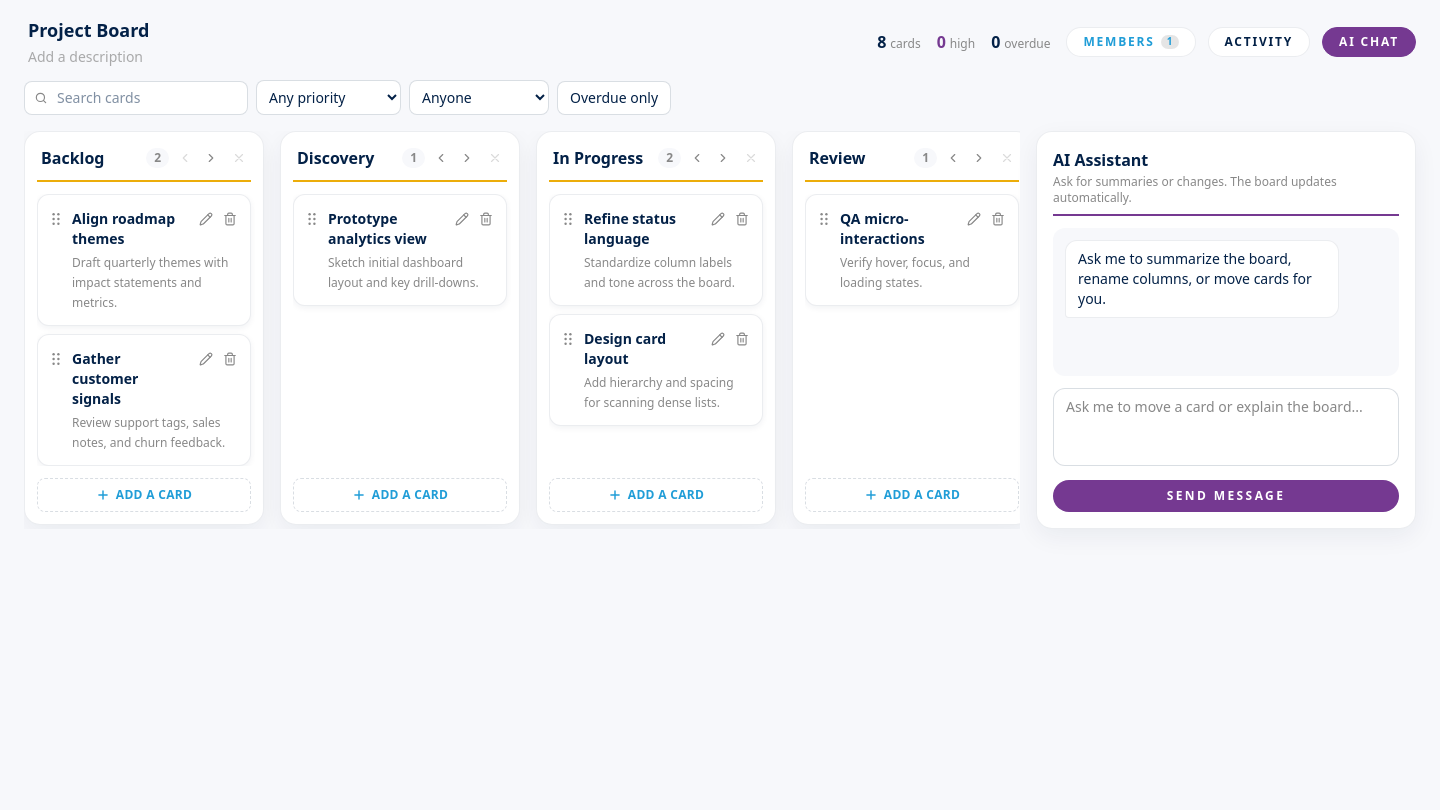
Test: KanbanBoard › edits every card field and saves them
Click the button named "edit align roadmap themes". click: (206, 219)
box: [194,207,218,231]
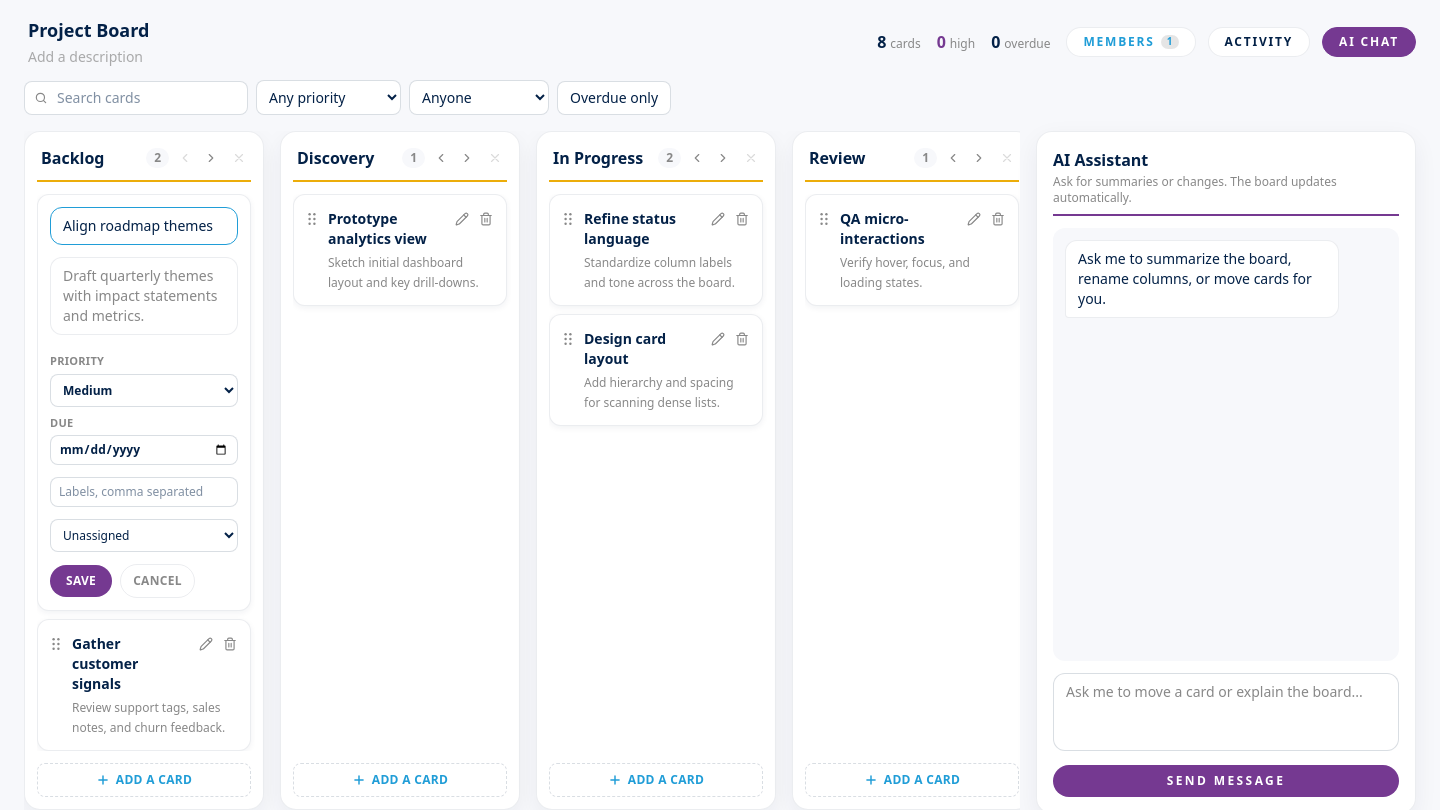
Replace the text in the field named "Card title" with "Edited title". click: (144, 226)
box: [50,207,238,245]
Replace the text in the text box named "Card details" with "Edited details". click: (144, 296)
box: [50,257,238,335]
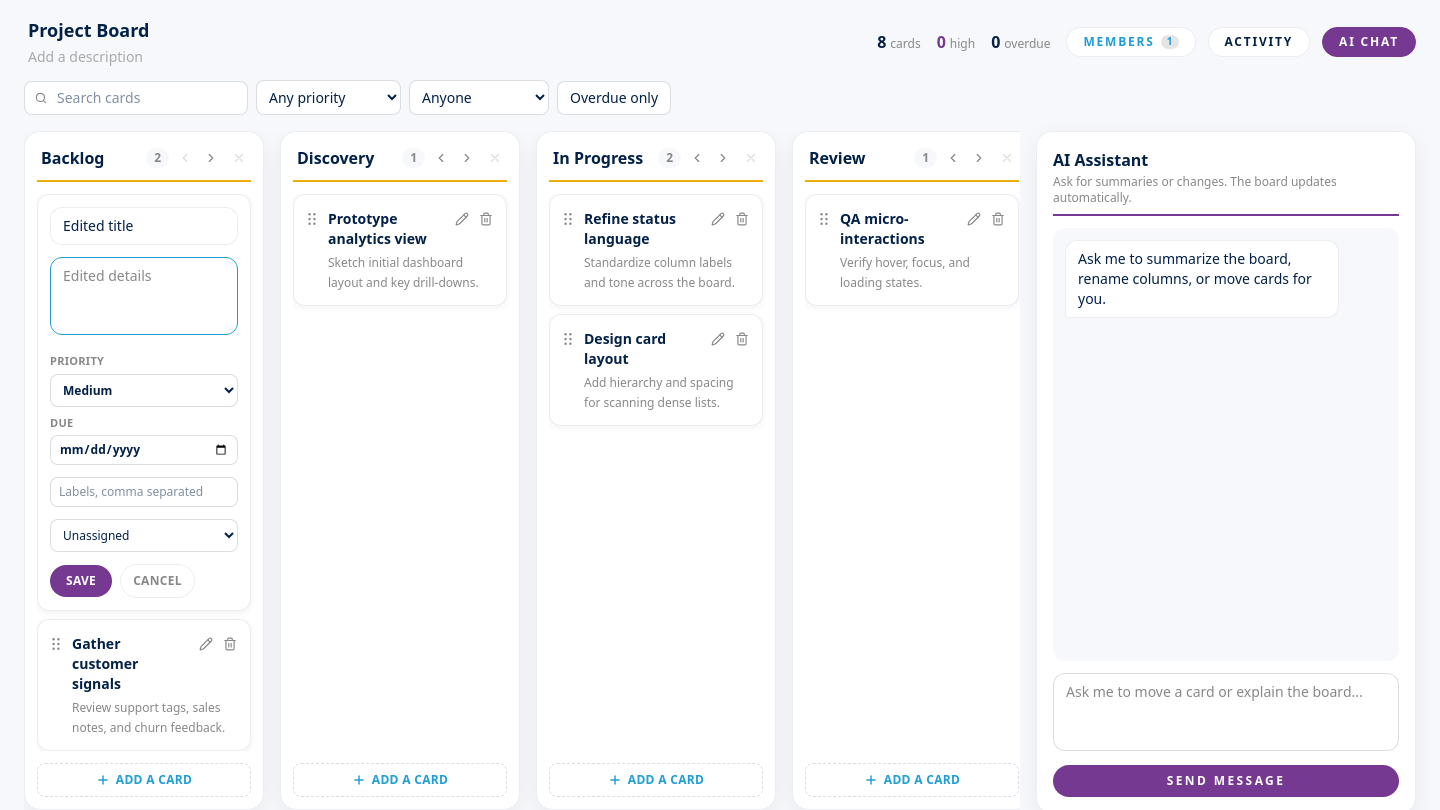
Select "High" in the dropdown named "Card priority". click: (144, 390)
box: [50,374,238,406]
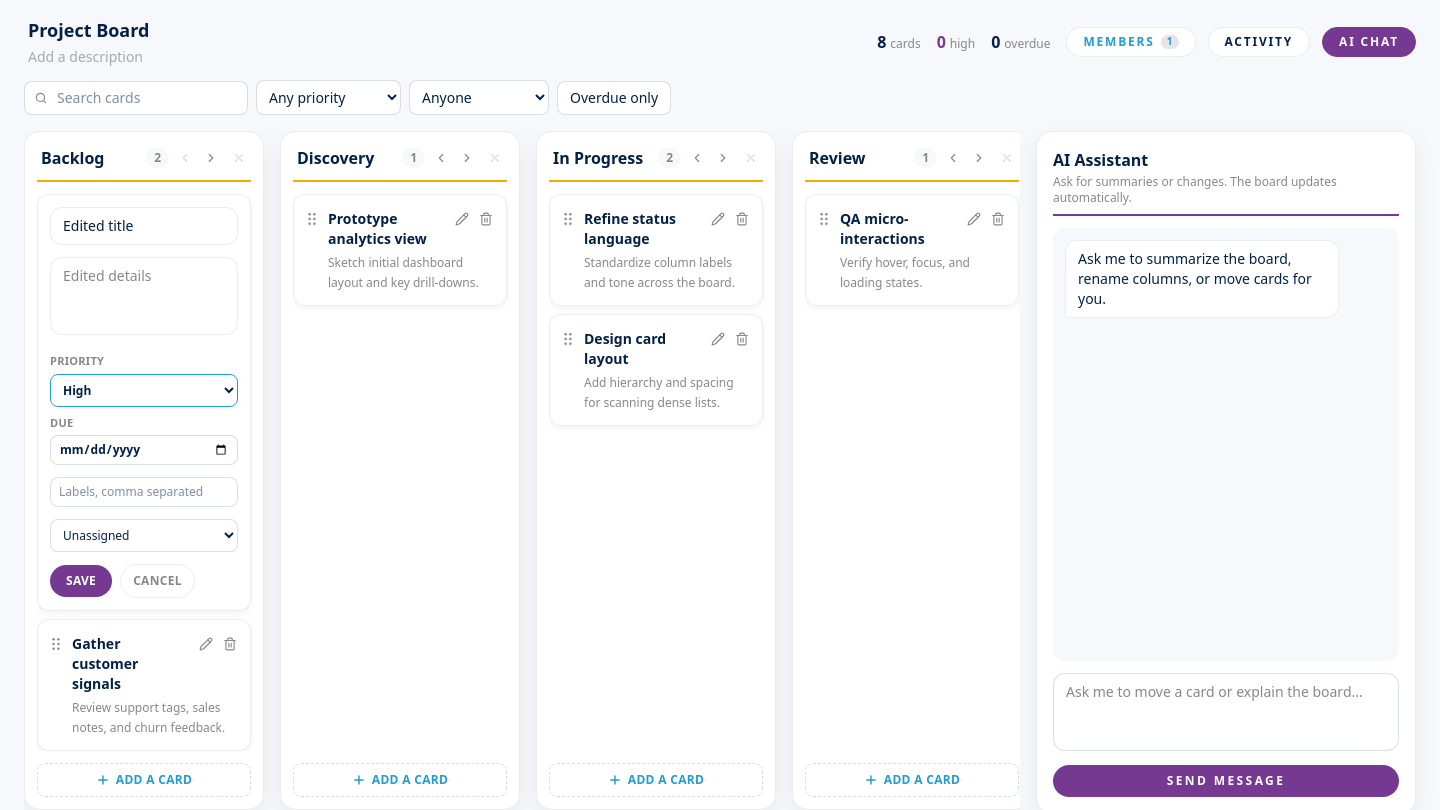
Type "2099-01-15" into the date field named "Card due date". click: (144, 450)
box: [50,435,238,465]
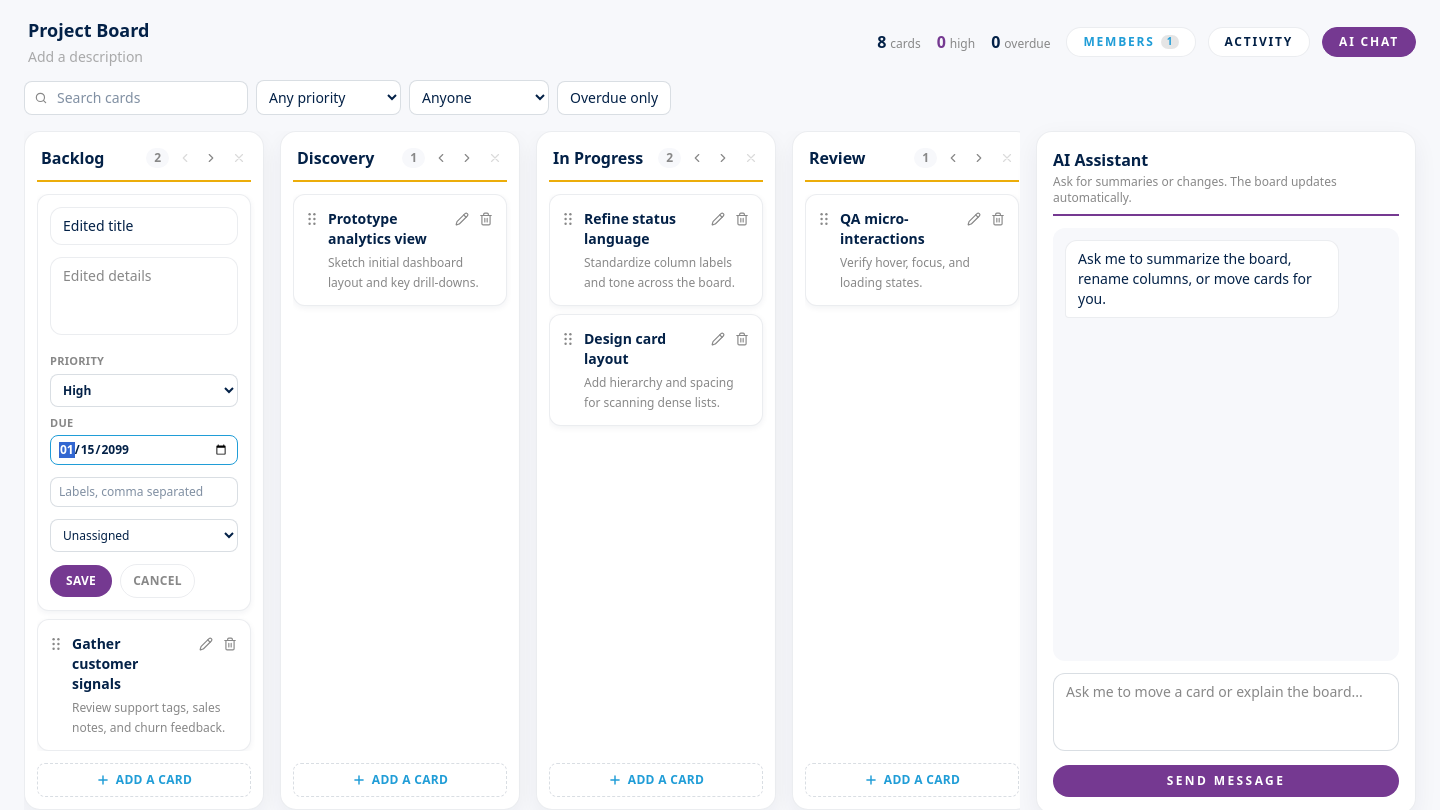
Type "api, ui, api,  " into the field named "Card labels". click: (144, 492)
box: [50,477,238,507]
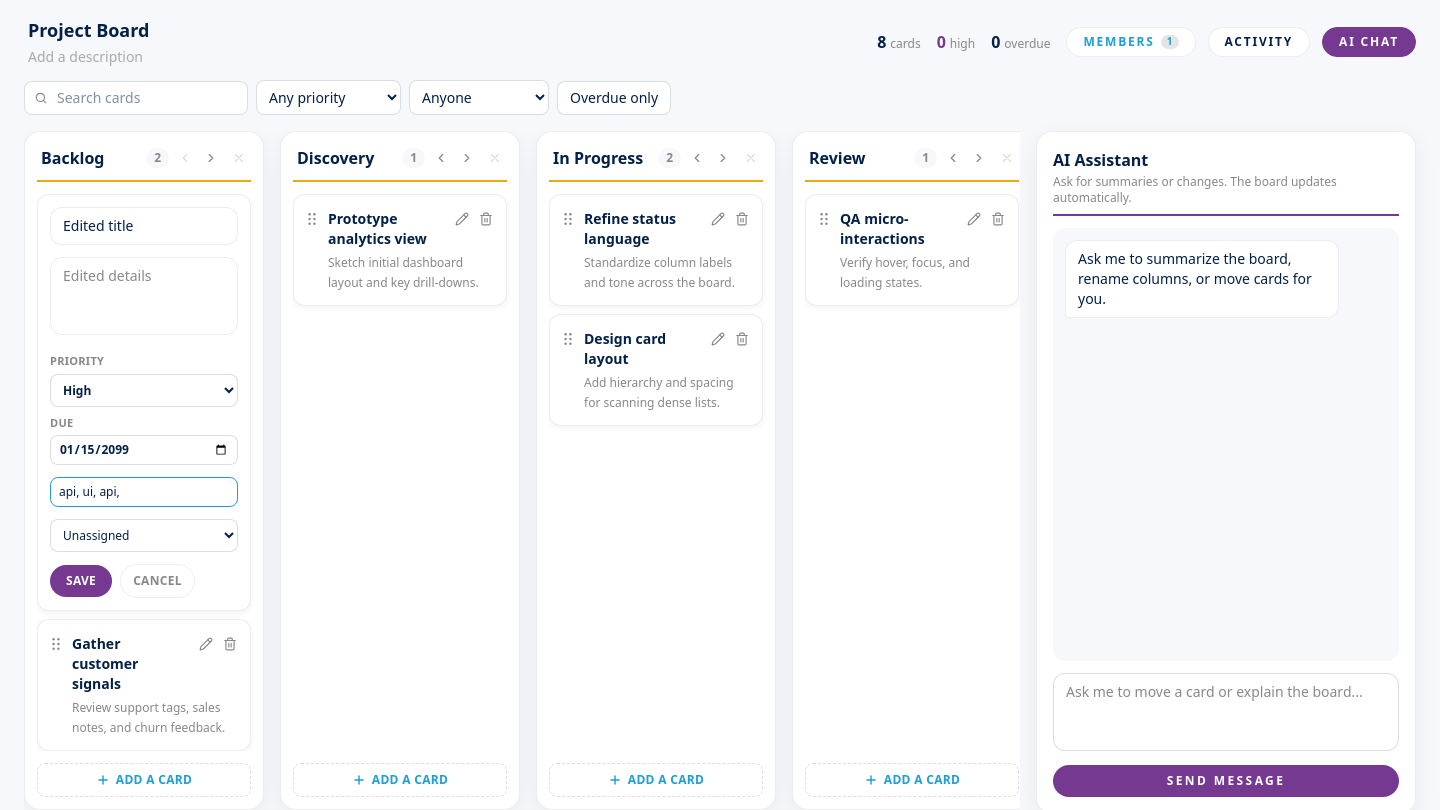
Click the button "Save". click: (81, 581)
box: [50,565,112,597]
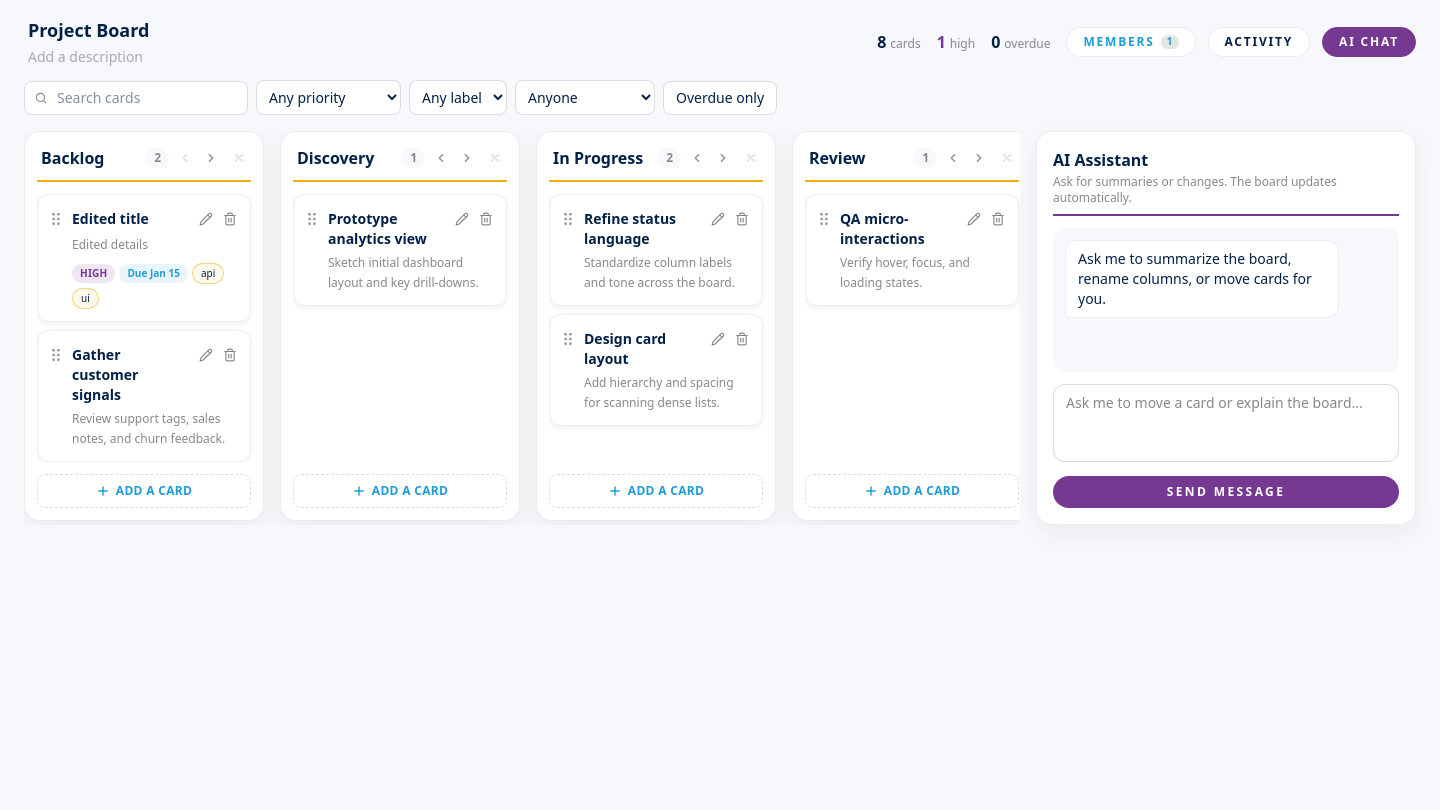
Expected: the heading "Edited title" is shown, [72,209,149,228]
Expected: the text "Edited details" is shown, [72,236,148,253]
Expected: the text "high" in the row of "Jan 15" is shown, [80,266,107,280]
